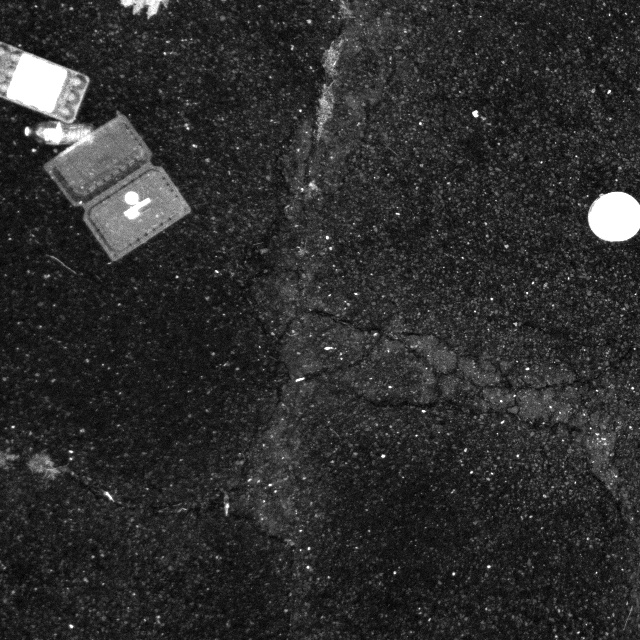bottle: (18, 119, 105, 154)
can: (589, 187, 640, 249)
container: (42, 104, 192, 268), (0, 39, 95, 119)
